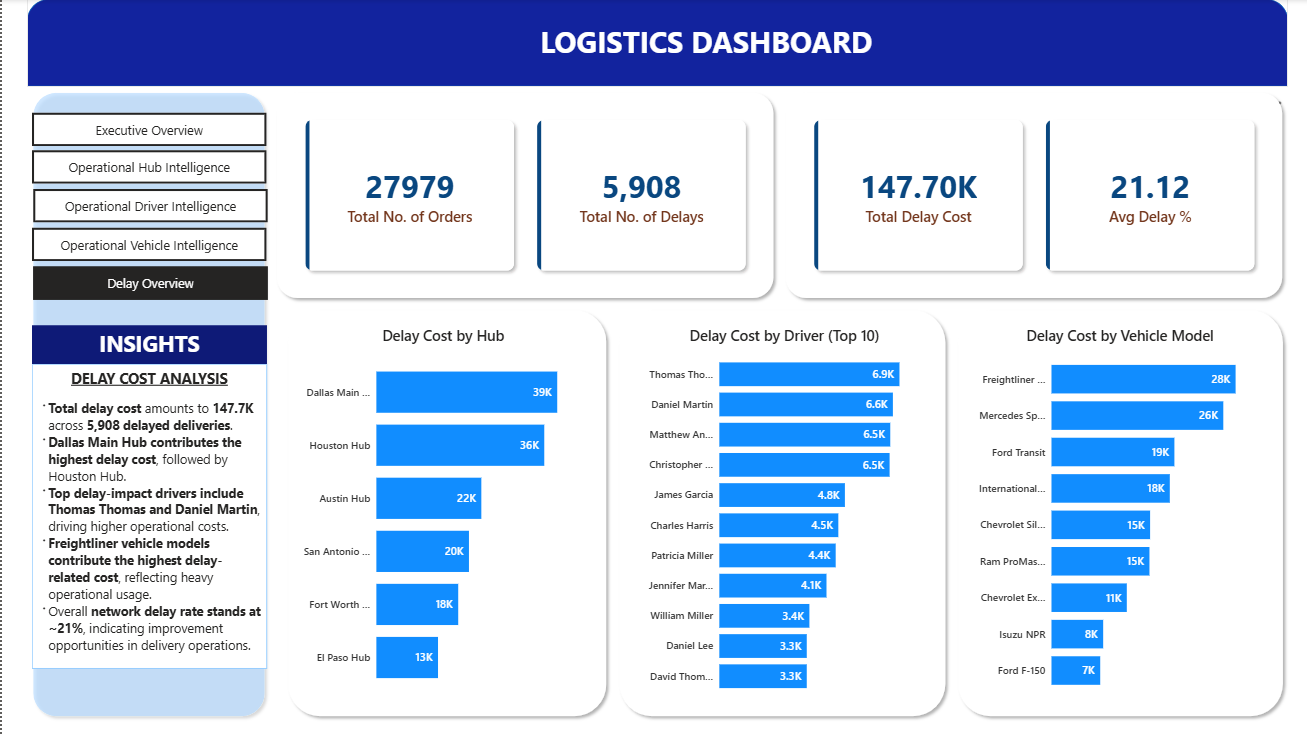

Layout of this report page (visuals, bound fields, positions):
{"tool":"powerbi","page":{"name":"Delay Overview","canvas":[1920,1080],"ordinal":4},"visuals":[{"type":"shape","box":[36.7,0,1850.8,128.4],"z":0},{"type":"textbox","box":[755.7,27.5,555.8,75.2],"z":1000},{"type":"shape","box":[1141.1,128.9,746.6,319.4],"z":2000},{"type":"shape","box":[394.5,128.9,746.6,319.4],"z":3000},{"type":"shape","box":[411.8,448.3,484.9,613.8],"z":4000},{"type":"shape","box":[896.7,448.3,496.5,613.8],"z":5000},{"type":"shape","box":[1393.1,448.3,494.5,613.8],"z":6000},{"type":"shape","box":[36.6,128.9,357.9,933.3],"z":7000},{"type":"cardVisual","fields":{"Data":["Sum(delivery_network vw_delay_financial_impact_network.total_delay_cost)","Avg(delivery_network vw_delay_financial_impact_network.delay_percentage)"]},"box":[1162.2,148.2,704.3,279],"z":8000},{"type":"cardVisual","fields":{"Data":["Sum(delivery_network vw_delay_financial_impact_network.total_orders)","Sum(delivery_network vw_delay_financial_impact_network.total_delays)"]},"box":[415.6,148.2,704.3,279],"z":9000},{"type":"barChart","title":"Delay Cost by Hub","fields":{"Category":["delivery_network vw_delay_cost_by_hub.hub_name"],"Y":["Sum(delivery_network vw_delay_cost_by_hub.delay_cost)"]},"box":[425.5,478.7,443.9,555.8],"z":10000},{"type":"barChart","title":"Delay Cost by Driver (Top 10)","fields":{"Category":["delivery_network vw_delay_cost_by_driver.driver_name"],"Y":["Sum(delivery_network vw_delay_cost_by_driver.delay_cost)"]},"box":[931.8,478.7,432.9,555.8],"z":11000},{"type":"barChart","title":"Delay Cost by Vehicle Model","fields":{"Category":["delivery_network vw_delay_cost_by_vehicle.vehicle_model"],"Y":["Sum(delivery_network vw_delay_cost_by_vehicle.delay_cost)"]},"box":[1414.7,478.1,452.6,554.9],"z":12000},{"type":"pageNavigator","box":[44,166.9,344,49.5],"z":12001},{"type":"pageNavigator","box":[44,221.9,344.8,49.5],"z":12002},{"type":"pageNavigator","box":[45.9,278.8,344.8,49.5],"z":12003},{"type":"pageNavigator","box":[44,335.7,344.8,49.5],"z":12004},{"type":"pageNavigator","box":[45.9,392.5,344.8,49.5],"z":12005},{"type":"textbox","box":[44,478.7,344.8,58.7],"z":12006},{"type":"textbox","box":[44,535.6,344.8,447.6],"z":12007}]}

Visuals, with their boxes in screenshot pixels (x1, y1, x2, y2), scaled from the page's 1920x1080 canvas onto the 1307x735 screenshot:
shape: 25 0 1285 87
textbox: 514 19 893 70
shape: 777 88 1285 305
shape: 269 88 777 305
shape: 280 305 610 723
shape: 610 305 948 723
shape: 948 305 1285 723
shape: 25 88 269 723
cardVisual - Sum(delivery_network vw_delay_financial_impact_network.total_delay_cost) x Avg(delivery_network vw_delay_financial_impact_network.delay_percentage): 791 101 1271 291
cardVisual - Sum(delivery_network vw_delay_financial_impact_network.total_orders) x Sum(delivery_network vw_delay_financial_impact_network.total_delays): 283 101 762 291
"Delay Cost by Hub" barChart: 290 326 592 704
"Delay Cost by Driver (Top 10)" barChart: 634 326 929 704
"Delay Cost by Vehicle Model" barChart: 963 325 1271 703
pageNavigator: 30 114 264 147
pageNavigator: 30 151 265 185
pageNavigator: 31 190 266 223
pageNavigator: 30 228 265 262
pageNavigator: 31 267 266 301
textbox: 30 326 265 366
textbox: 30 365 265 669
